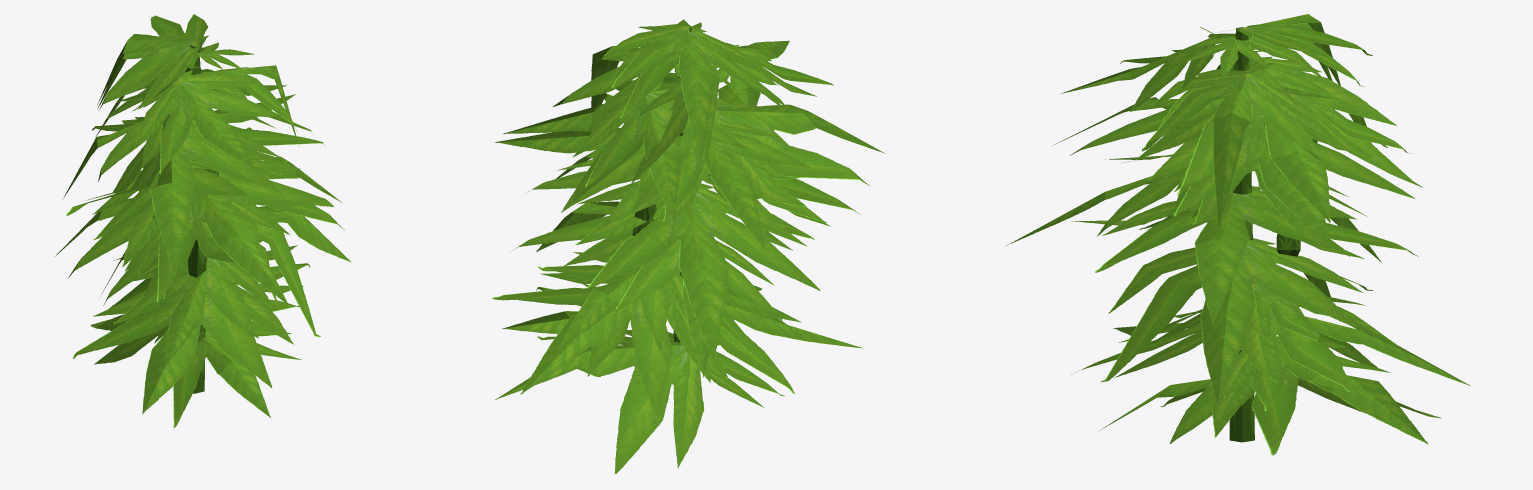
Rendered from Props_Bush_2.1.fbx.
The picture shows the model from 3 angles, left to right: view 1: azimuth 30°, elevation 25°; view 2: azimuth 150°, elevation 25°; view 3: azimuth 270°, elevation 25°; orthographic projection. The views are drawn at different scales.
Visible parts, largest first — view 1: Props_Bush_2; view 2: Props_Bush_2; view 3: Props_Bush_2.
Boxes of the visible parts, left/top/right/bottom form: Props_Bush_2: left=55, top=14, right=350, bottom=427; Props_Bush_2: left=492, top=19, right=885, bottom=473; Props_Bush_2: left=1006, top=14, right=1470, bottom=455.
Bounding box in the file's own units: 314 × 303 × 349.
